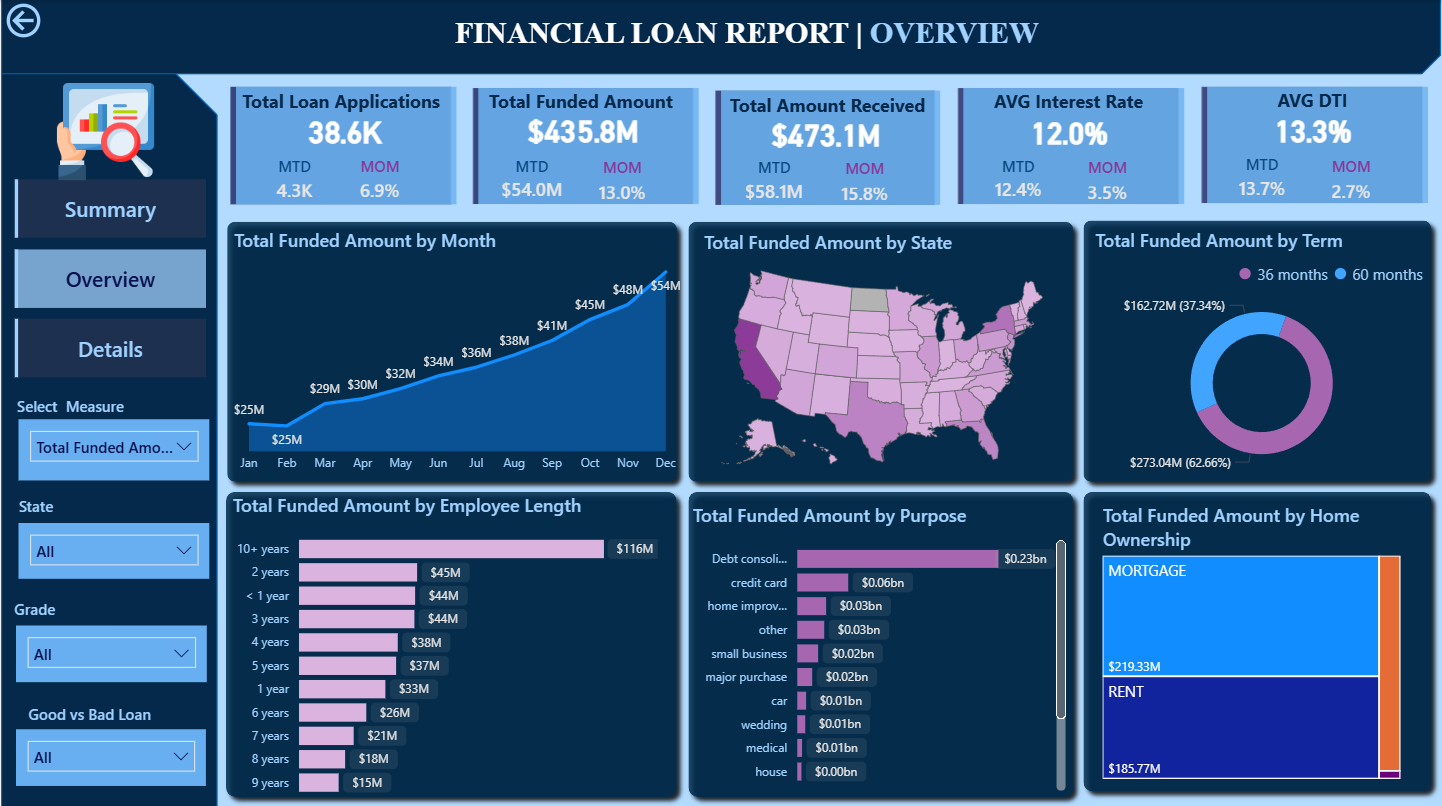

This screenshot's page, from the dashboard's own definition file:
{"tool":"powerbi","page":{"name":"Overview","canvas":[1300,720],"ordinal":1},"visuals":[{"type":"shape","box":[0,55,192.5,665],"z":0},{"type":"shape","box":[202.9,72.9,207.1,115.7],"z":0,"group":"g1"},{"type":"shape","box":[1066.3,72.9,207.4,114.5],"z":0,"group":"g7"},{"type":"shape","box":[418.5,74.3,206.9,114.3],"z":0,"group":"g3"},{"type":"shape","box":[849.5,74.3,207.4,114.3],"z":0,"group":"g6"},{"type":"shape","box":[634.2,75.8,206,112.9],"z":0,"group":"g5"},{"type":"shape","box":[0,0,1280,68],"z":1000},{"type":"group","id":"g1","title":"Group 1","box":[202.9,72.9,207.1,115.7],"z":1000,"group":"g2"},{"type":"textbox","box":[1063.2,74.5,204.7,36.6],"z":1000,"group":"g7"},{"type":"textbox","box":[205.6,74.8,197.8,35.8],"z":1000,"group":"g1"},{"type":"textbox","box":[415.4,75.9,204.2,36.5],"z":1000,"group":"g3"},{"type":"textbox","box":[846.4,75.9,204.7,36.5],"z":1000,"group":"g6"},{"type":"textbox","box":[632.6,77.6,202.9,35.7],"z":1000,"group":"g5"},{"type":"textbox","box":[344,10.7,637.3,44],"z":2000},{"type":"card","title":"MTD","fields":{"Values":["financial_loan_analysis financial_loan_data.MTD AVG DTI"]},"box":[1084.6,138.2,70.9,43.7],"z":2000,"group":"g7"},{"type":"card","title":"MTD","fields":{"Values":["financial_loan_analysis financial_loan_data.MTD Total Funded Amount"]},"box":[436.8,139.5,70.7,43.6],"z":2000,"group":"g3"},{"type":"card","title":"MTD","fields":{"Values":["financial_loan_analysis financial_loan_data.MTD AVG Interest Rate"]},"box":[867.8,139.5,70.9,43.6],"z":2000,"group":"g6"},{"type":"card","title":"MTD","fields":{"Values":["financial_loan_analysis financial_loan_data.MTD Loan Applications"]},"box":[231.9,140,57.6,42.2],"z":2000,"group":"g1"},{"type":"card","title":"MTD","fields":{"Values":["financial_loan_analysis financial_loan_data.MTD Total Amount Received"]},"box":[652.4,140.2,70.4,43],"z":2000,"group":"g5"},{"type":"actionButton","box":[0,0,100,40],"z":3000},{"type":"card","fields":{"Values":["financial_loan_analysis financial_loan_data.Total Funded Amount"]},"box":[415.4,94.7,204.2,45.9],"z":3000,"group":"g3"},{"type":"card","fields":{"Values":["financial_loan_analysis financial_loan_data.Total Loan Applications"]},"box":[206.9,96.2,196.5,42.9],"z":3000,"group":"g1"},{"type":"card","fields":{"Values":["financial_loan_analysis financial_loan_data.AVG DTI"]},"box":[1062.9,96.5,206.1,42.5],"z":3000,"group":"g7"},{"type":"card","fields":{"Values":["financial_loan_analysis financial_loan_data.AVG Interest Rate"]},"box":[846.1,97.9,206.1,42.4],"z":3000,"group":"g6"},{"type":"card","fields":{"Values":["financial_loan_analysis financial_loan_data.Total Amount Received"]},"box":[630.8,99.1,204.7,41.9],"z":3000,"group":"g5"},{"type":"group","id":"g2","title":"Group 2","box":[202.9,72.9,1071.4,115.7],"z":4000},{"type":"card","title":"MOM","fields":{"Values":["financial_loan_analysis financial_loan_data.MOM AVG DTI"]},"box":[1163.5,139.3,73.8,41.7],"z":4000,"group":"g7"},{"type":"card","title":"MOM","fields":{"Values":["financial_loan_analysis financial_loan_data.MOM Loan Applications"]},"box":[299.9,140,73.7,42.2],"z":4000,"group":"g1"},{"type":"card","title":"MOM","fields":{"Values":["financial_loan_analysis financial_loan_data.MOM Total Funded Amount"]},"box":[515.4,140.6,73.6,41.6],"z":4000,"group":"g3"},{"type":"card","title":"MOM","fields":{"Values":["financial_loan_analysis financial_loan_data.MOM AVG Interest Rate"]},"box":[946.7,140.6,73.8,41.6],"z":4000,"group":"g6"},{"type":"card","title":"MOM","fields":{"Values":["financial_loan_analysis financial_loan_data.MOM Amount Received"]},"box":[730.7,141.2,73.3,41.1],"z":4000,"group":"g5"},{"type":"group","id":"g3","title":"Group 1","box":[415.4,74.3,210,114.3],"z":5000,"group":"g2"},{"type":"group","id":"g4","title":"Group 3","box":[192.5,190,417.5,248.8],"z":5000},{"type":"shape","box":[192.5,190,417.5,248.7],"z":5000,"group":"g4"},{"type":"group","id":"g5","title":"Group 1","box":[630.8,75.8,209.4,112.9],"z":6000,"group":"g2"},{"type":"shape","box":[191.5,430.5,418.3,289],"z":6000},{"type":"group","id":"g6","title":"Group 1","box":[846.1,74.3,211.4,114.3],"z":7000,"group":"g2"},{"type":"shape","box":[602.4,190.2,359.8,248.8],"z":7000},{"type":"group","id":"g7","title":"Group 1","box":[1062.9,72.9,211.4,115.7],"z":8000,"group":"g2"},{"type":"areaChart","fields":{"Y":["financial_loan_analysis financial_loan_data.Total Funded Amount"],"Category":["Date Calender.Month"]},"box":[202.4,203.7,407.3,226.8],"z":8000},{"type":"textbox","box":[3.9,438.2,55.6,28],"z":8000,"group":"g8"},{"type":"textbox","box":[218.2,195.1,153.3,38.3],"z":9000,"group":"g4"},{"type":"shapeMap","fields":{"Value":["financial_loan_analysis financial_loan_data.Total Funded Amount"],"Category":["financial_loan_analysis financial_loan_data.address_state"]},"box":[619.5,206.1,326.8,224.4],"z":9000},{"type":"slicer","fields":{"Values":["financial_loan_analysis financial_loan_data.address_state"]},"box":[15.3,466.2,169.7,49.4],"z":9000,"group":"g8"},{"type":"shape","box":[953.7,189,326.8,250],"z":10000},{"type":"slicer","fields":{"Values":["financial_loan_analysis financial_loan_data.grade"]},"box":[13.7,557.2,169.7,50.2],"z":10000,"group":"g8"},{"type":"donutChart","fields":{"Y":["financial_loan_analysis financial_loan_data.Total Funded Amount"],"Category":["financial_loan_analysis financial_loan_data.term"]},"box":[968.3,203.7,306.1,226.8],"z":11000},{"type":"slicer","fields":{"Values":["financial_loan_analysis financial_loan_data.Good vs Bad Loans"]},"box":[13.5,650,169.2,50.1],"z":11000,"group":"g8"},{"type":"barChart","fields":{"Y":["financial_loan_analysis financial_loan_data.Total Funded Amount"],"Category":["financial_loan_analysis financial_loan_data.emp_length"]},"box":[201.2,439,387.8,280.5],"z":12000},{"type":"textbox","box":[2.5,622.6,153.4,27.3],"z":12000,"group":"g8"},{"type":"shape","box":[602.4,430.5,359.8,289],"z":13000},{"type":"textbox","box":[2.5,528.9,55.6,28],"z":13000,"group":"g8"},{"type":"barChart","fields":{"Y":["financial_loan_analysis financial_loan_data.Total Funded Amount"],"Category":["financial_loan_analysis financial_loan_data.purpose"]},"box":[609.8,447.6,341.5,262.2],"z":14000},{"type":"slicer","fields":{"Values":["Select Measure.Select Measure"]},"box":[15.3,374.1,169.7,54.7],"z":15000,"group":"g8"},{"type":"shape","box":[953.7,430.5,326.8,284.1],"z":15000},{"type":"textbox","box":[3.9,348.8,116.9,32],"z":16000,"group":"g8"},{"type":"treemap","fields":{"Values":["financial_loan_analysis financial_loan_data.Total Funded Amount"],"Group":["financial_loan_analysis financial_loan_data.home_ownership"]},"box":[974.4,447.6,274.4,251.2],"z":16000},{"type":"pageNavigator","box":[12.5,161.2,170,177.5],"z":17000},{"type":"group","id":"g8","title":"Group 4","box":[2.5,348.8,182.5,350],"z":18000},{"type":"image","box":[3.8,75,178.8,86.2],"z":18001}]}

Visuals, with their boxes in screenshot pixels (x1, y1, x2, y2), scaled from the page's 1300x720 canvas onto the 1442x806 screenshot:
shape: bbox=[0, 62, 214, 805]
shape: bbox=[225, 82, 455, 211]
shape: bbox=[1183, 82, 1413, 210]
shape: bbox=[464, 83, 694, 211]
shape: bbox=[942, 83, 1172, 211]
shape: bbox=[703, 85, 932, 211]
shape: bbox=[0, 0, 1420, 76]
"Group 1" group: bbox=[225, 82, 455, 211]
textbox: bbox=[1179, 83, 1406, 124]
textbox: bbox=[228, 84, 447, 124]
textbox: bbox=[461, 85, 687, 126]
textbox: bbox=[939, 85, 1166, 126]
textbox: bbox=[702, 87, 927, 127]
textbox: bbox=[382, 12, 1088, 61]
"MTD" card: bbox=[1203, 155, 1282, 204]
"MTD" card: bbox=[485, 156, 563, 205]
"MTD" card: bbox=[963, 156, 1041, 205]
"MTD" card: bbox=[257, 157, 321, 204]
"MTD" card: bbox=[724, 157, 802, 205]
actionButton: bbox=[0, 0, 111, 45]
card - financial_loan_analysis financial_loan_data.Total Funded Amount: bbox=[461, 106, 687, 157]
card - financial_loan_analysis financial_loan_data.Total Loan Applications: bbox=[229, 108, 447, 156]
card - financial_loan_analysis financial_loan_data.AVG DTI: bbox=[1179, 108, 1408, 156]
card - financial_loan_analysis financial_loan_data.AVG Interest Rate: bbox=[939, 110, 1167, 157]
card - financial_loan_analysis financial_loan_data.Total Amount Received: bbox=[700, 111, 927, 158]
"Group 2" group: bbox=[225, 82, 1413, 211]
"MOM" card: bbox=[1291, 156, 1372, 203]
"MOM" card: bbox=[333, 157, 414, 204]
"MOM" card: bbox=[572, 157, 653, 204]
"MOM" card: bbox=[1050, 157, 1132, 204]
"MOM" card: bbox=[811, 158, 892, 204]
"Group 1" group: bbox=[461, 83, 694, 211]
"Group 3" group: bbox=[214, 213, 677, 491]
shape: bbox=[214, 213, 677, 491]
"Group 1" group: bbox=[700, 85, 932, 211]
shape: bbox=[212, 482, 676, 805]
"Group 1" group: bbox=[939, 83, 1173, 211]
shape: bbox=[668, 213, 1067, 491]
"Group 1" group: bbox=[1179, 82, 1413, 211]
areaChart - financial_loan_analysis financial_loan_data.Total Funded Amount x Date Calender.Month: bbox=[225, 228, 676, 482]
textbox: bbox=[4, 491, 66, 522]
textbox: bbox=[242, 218, 412, 261]
shapeMap - financial_loan_analysis financial_loan_data.Total Funded Amount x financial_loan_analysis financial_loan_data.address_state: bbox=[687, 231, 1050, 482]
slicer - financial_loan_analysis financial_loan_data.address_state: bbox=[17, 522, 205, 577]
shape: bbox=[1058, 212, 1420, 491]
slicer - financial_loan_analysis financial_loan_data.grade: bbox=[15, 624, 203, 680]
donutChart - financial_loan_analysis financial_loan_data.Total Funded Amount x financial_loan_analysis financial_loan_data.term: bbox=[1074, 228, 1414, 482]
slicer - financial_loan_analysis financial_loan_data.Good vs Bad Loans: bbox=[15, 728, 203, 784]
barChart - financial_loan_analysis financial_loan_data.Total Funded Amount x financial_loan_analysis financial_loan_data.emp_length: bbox=[223, 491, 653, 805]
textbox: bbox=[3, 697, 173, 728]
shape: bbox=[668, 482, 1067, 805]
textbox: bbox=[3, 592, 64, 623]
barChart - financial_loan_analysis financial_loan_data.Total Funded Amount x financial_loan_analysis financial_loan_data.purpose: bbox=[676, 501, 1055, 795]
slicer - Select Measure.Select Measure: bbox=[17, 419, 205, 480]
shape: bbox=[1058, 482, 1420, 800]
textbox: bbox=[4, 390, 134, 426]
treemap - financial_loan_analysis financial_loan_data.Total Funded Amount x financial_loan_analysis financial_loan_data.home_ownership: bbox=[1081, 501, 1385, 782]
pageNavigator: bbox=[14, 180, 202, 379]
"Group 4" group: bbox=[3, 390, 205, 782]
image: bbox=[4, 84, 203, 180]
